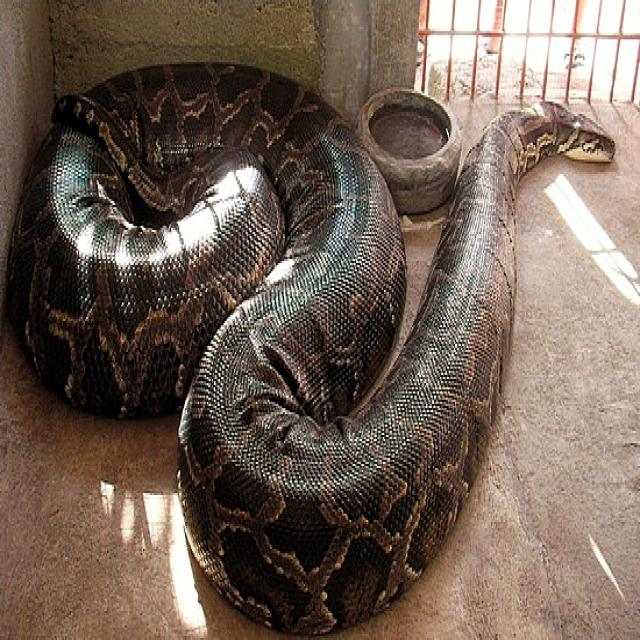Python bivittatus: (9, 65, 614, 633)
snake: (9, 65, 614, 633)
